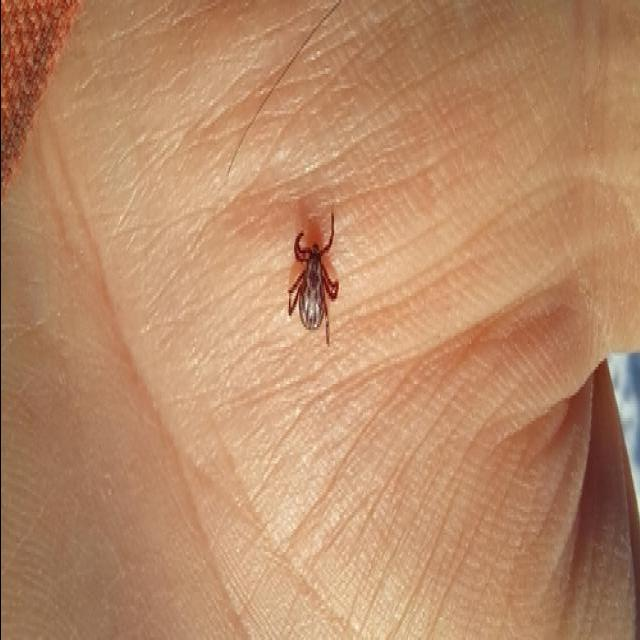Dermacentor Reticulatus-M: (285, 208, 338, 344)
